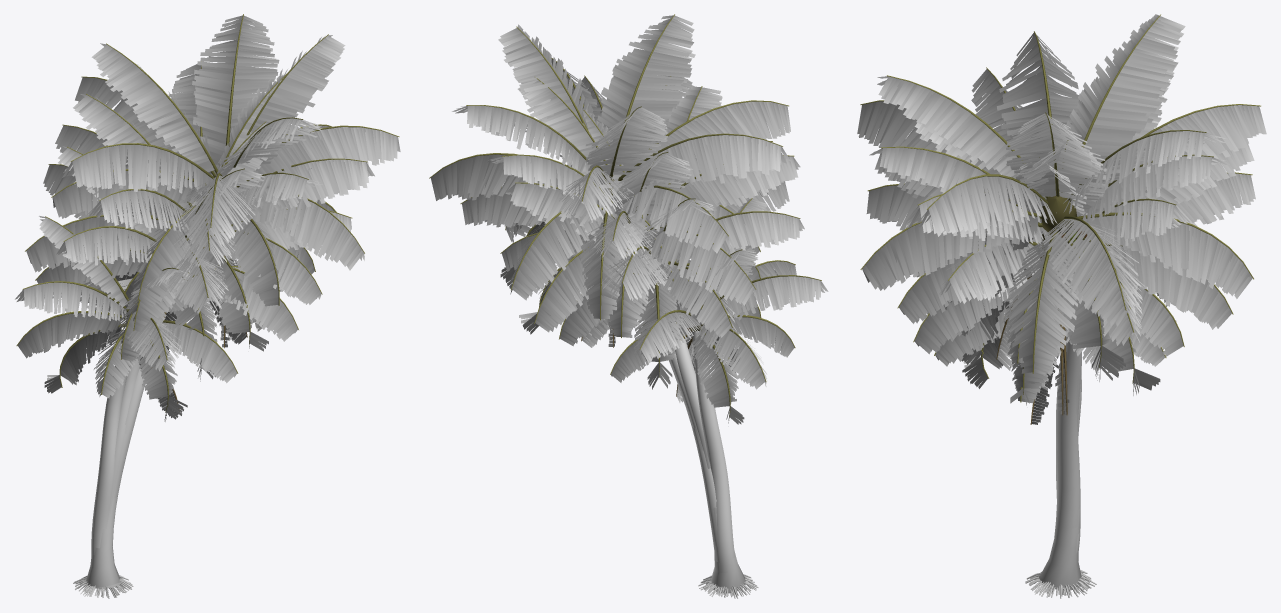
The model's file is palms.glb.
3 renders of one model, left to right at view 1: azimuth 30°, elevation 25°; view 2: azimuth 150°, elevation 25°; view 3: azimuth 270°, elevation 25°, orthographic. The views are drawn at different scales.
Parts seen in each view (by area): view 1: palm_1, palm_3, palm_2, palm_0; view 2: palm_1, palm_3, palm_0, palm_2; view 3: palm_1, palm_3, palm_0, palm_2.
Part boxes in pixels (left/top/right/bottom): palm_1: left=51, top=14, right=400, bottom=597; palm_3: left=25, top=61, right=374, bottom=597; palm_2: left=15, top=201, right=245, bottom=597; palm_0: left=35, top=121, right=352, bottom=598; palm_1: left=429, top=14, right=790, bottom=598; palm_3: left=460, top=75, right=800, bottom=597; palm_0: left=500, top=86, right=804, bottom=597; palm_2: left=587, top=198, right=828, bottom=598; palm_1: left=857, top=14, right=1266, bottom=597; palm_3: left=869, top=66, right=1254, bottom=596; palm_0: left=866, top=111, right=1255, bottom=596; palm_2: left=910, top=232, right=1166, bottom=598.
Size of the model in its own units: 7.84 by 10.39 by 6.44.
